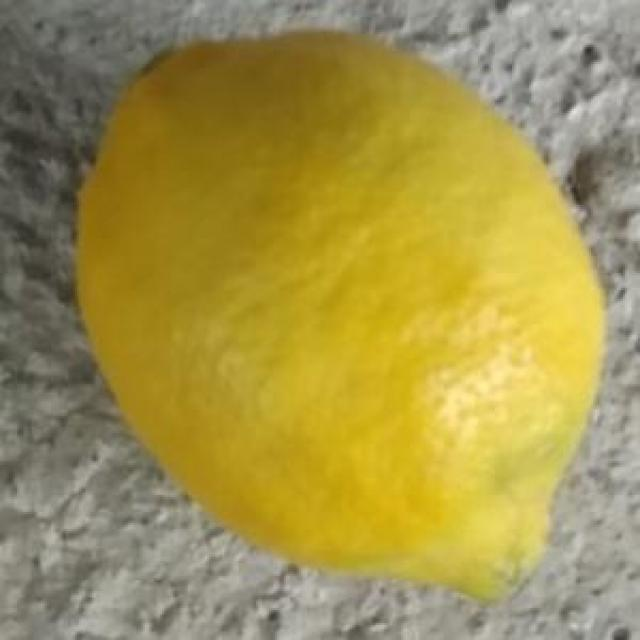lemon: (72, 21, 606, 602)
